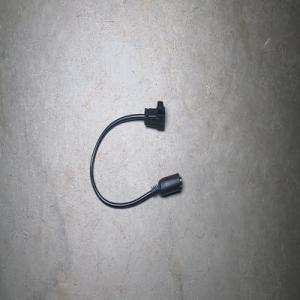Wire: (90, 100, 183, 209)
